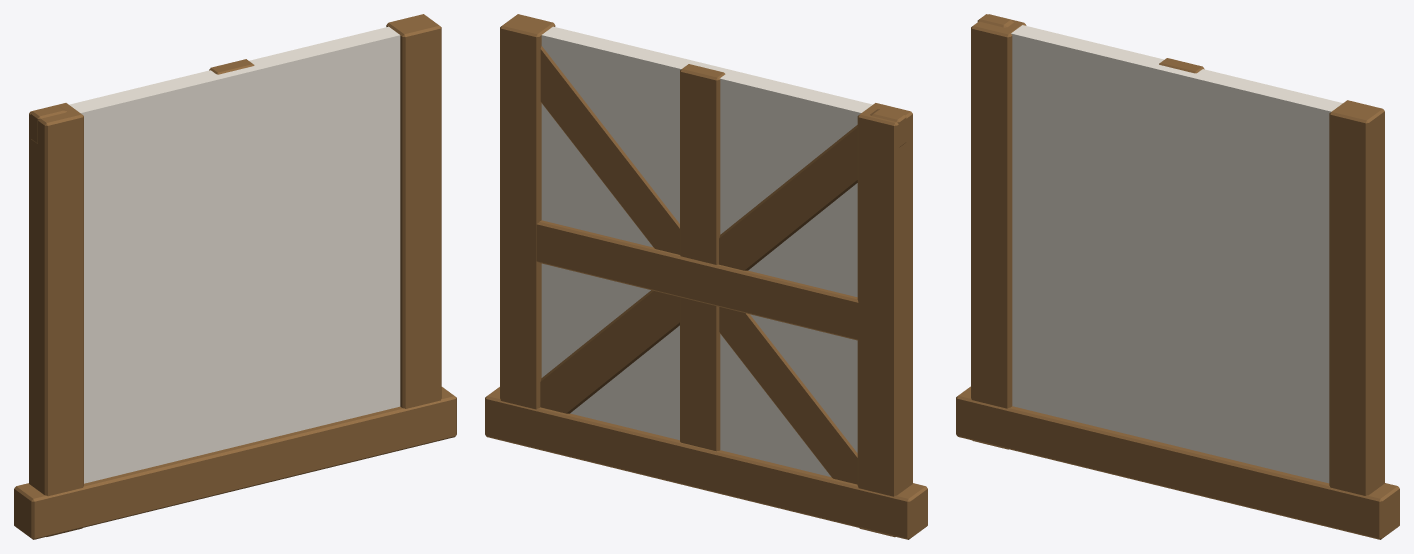
The model's file is WallWith2Borders 1.fbx.
3 renders of one model, left to right at view 1: azimuth 30°, elevation 25°; view 2: azimuth 150°, elevation 25°; view 3: azimuth 330°, elevation 25°, orthographic.
Parts seen in each view (by area): view 1: Wall2Cross, Cube.033, Cube.036, Cube.032; view 2: Wall2Cross, Cube.033, Cube.036, Cube.032, Cube.035, Cube.031, Cube.034, Cube.030; view 3: Wall2Cross, Cube.032, Cube.036, Cube.033.
Boxes of the visible parts, left/top/right/bottom form: Wall2Cross: left=69, top=26, right=400, bottom=483; Cube.033: left=29, top=103, right=83, bottom=536; Cube.036: left=14, top=387, right=456, bottom=539; Cube.032: left=386, top=14, right=441, bottom=408; Wall2Cross: left=541, top=26, right=872, bottom=476; Cube.033: left=857, top=103, right=912, bottom=537; Cube.036: left=485, top=387, right=927, bottom=539; Cube.032: left=500, top=14, right=555, bottom=409; Cube.035: left=540, top=109, right=906, bottom=413; Cube.031: left=540, top=46, right=857, bottom=484; Cube.034: left=536, top=220, right=858, bottom=340; Cube.030: left=680, top=64, right=725, bottom=451; Wall2Cross: left=1011, top=25, right=1342, bottom=483; Cube.032: left=1329, top=100, right=1384, bottom=495; Cube.036: left=956, top=386, right=1399, bottom=539; Cube.033: left=971, top=14, right=1026, bottom=449.
Bounding box in the file's own units: 216 × 202 × 17.27.
